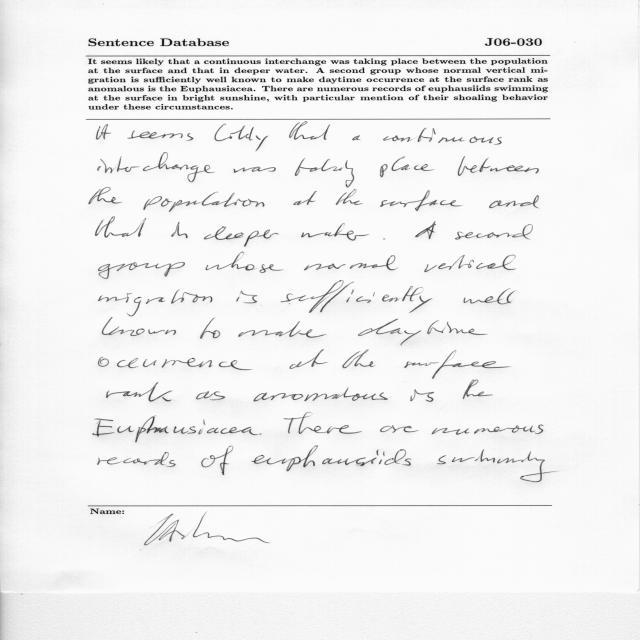word: (281, 281, 433, 313), (93, 417, 258, 443), (252, 446, 412, 471), (437, 450, 555, 483), (98, 153, 215, 183), (358, 319, 487, 345), (99, 290, 213, 317), (404, 350, 510, 379), (143, 192, 265, 212), (383, 128, 502, 145), (98, 357, 252, 370), (254, 388, 388, 402), (295, 158, 354, 188), (283, 412, 362, 434), (380, 190, 462, 211), (205, 252, 283, 273), (458, 156, 539, 176), (424, 255, 516, 272), (238, 321, 327, 338), (204, 227, 279, 247), (98, 262, 185, 279), (215, 124, 269, 151), (304, 255, 398, 270), (102, 318, 176, 336), (107, 382, 173, 402), (455, 224, 533, 240), (301, 223, 369, 241), (98, 452, 176, 467), (380, 157, 434, 178), (432, 425, 544, 435), (96, 217, 147, 238), (201, 446, 233, 475), (464, 289, 515, 305), (289, 121, 330, 140), (128, 130, 194, 141), (290, 350, 328, 369), (489, 195, 539, 208), (343, 350, 376, 368), (463, 380, 493, 399), (89, 188, 122, 205), (336, 189, 363, 205), (200, 318, 220, 339), (415, 221, 436, 239), (293, 191, 317, 205), (410, 389, 434, 402), (380, 425, 419, 433), (171, 222, 188, 238), (196, 391, 225, 400), (233, 167, 276, 173), (237, 291, 258, 303), (97, 124, 112, 140), (352, 136, 361, 141), (259, 433, 262, 435), (383, 238, 385, 240)
